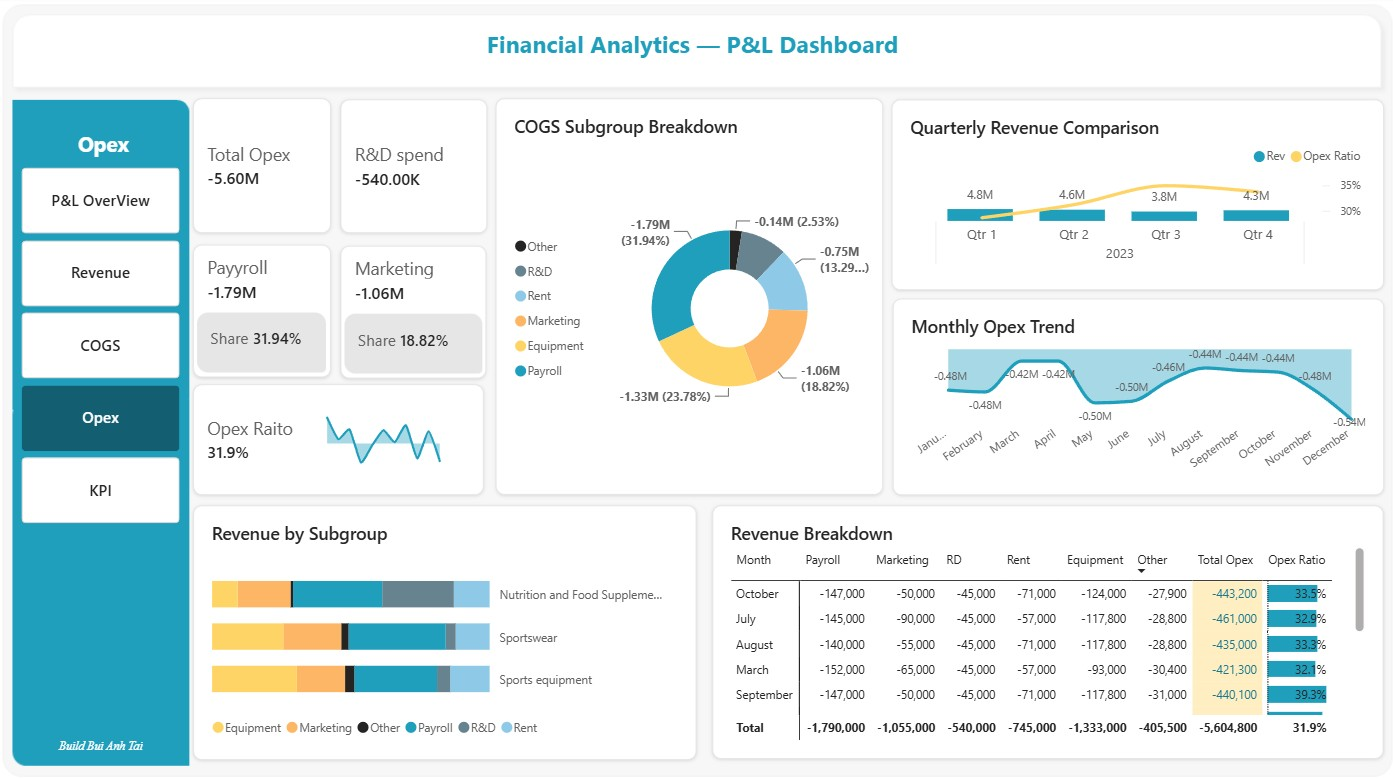

The page's visual inventory and layout, read from the dashboard file:
{"tool":"powerbi","page":{"name":"Opex","canvas":[1280,720],"ordinal":3},"visuals":[{"type":"lineChart","title":"Monthly Opex Trend","fields":{"Category":["Calendar.Month in text"],"Y":["_M.M_Opex"]},"box":[817.5,275,447.5,178.8],"z":0},{"type":"cardVisual","title":"GrossProfit","fields":{"Data":["_M.M_Opex"]},"box":[181.7,93.3,125.8,122.5],"z":1000},{"type":"cardVisual","title":"GrossProfit","fields":{"Data":["_M.M_Opex_Ratio"]},"box":[181.7,353.3,264.2,100.8],"z":2000},{"type":"cardVisual","title":"GrossProfit","fields":{"Data":["_M.M_RD"]},"box":[315.8,94.2,133.3,121.7],"z":3000},{"type":"cardVisual","title":"GrossProfit","fields":{"Data":["_M.M_Marketing"]},"box":[315.5,226.8,133,120.9],"z":4000},{"type":"cardVisual","title":"GrossProfit","fields":{"Data":["_M.M_Payroll"]},"box":[181.7,226.7,125.8,120.8],"z":5000},{"type":"textbox","box":[448.5,29.2,383,40.3],"z":6000},{"type":"textbox","box":[31,107,137,48],"z":7000},{"type":"lineChart","fields":{"Category":["Calendar.Month"],"Y":["_M MoM.M_Opex_Ratio_MoM"]},"box":[256.7,347.5,205.8,95.8],"z":8000},{"type":"hundredPercentStackedBarChart","title":"Revenue by Subgroup","fields":{"Category":["Business Line.Business Line"],"Series":["Subgroup.Subgroup"],"Y":["_M.M_Opex"]},"box":[181.4,463.6,458.6,231.8],"z":9000},{"type":"lineStackedColumnComboChart","title":"Quarterly Revenue Comparison","fields":{"Category":["Calendar.Date.Variation.Date Hierarchy.Year","Calendar.Date.Variation.Date Hierarchy.Quarter","Calendar.Date.Variation.Date Hierarchy.Month","Calendar.Date.Variation.Date Hierarchy.Day"],"Y":["_M.M_Revenue"],"Y2":["_M.M_Opex_Ratio"]},"box":[817.3,93.6,448.2,173.6],"z":10000},{"type":"pivotTable","title":"Revenue Breakdown","fields":{"Rows":["Calendar.Date.Variation.Date Hierarchy.Year","Calendar.Date.Variation.Date Hierarchy.Quarter","Calendar.Date.Variation.Date Hierarchy.Month","Calendar.Date.Variation.Date Hierarchy.Day"],"Values":["_M.M_Payroll","_M.M_Marketing","_M.M_RD","_M.M_Rent","_M.M_Equipment","_M.M_Other_Opex","_M.M_Opex","_M.M_Opex_Ratio"]},"box":[654,464,611,231],"z":11000},{"type":"donutChart","title":"COGS Subgroup Breakdown","fields":{"Category":["Subgroup.Subgroup"],"Y":["_M.M_Opex"]},"box":[456,93,353,361],"z":12000},{"type":"pageNavigator","box":[24.7,156,144,328.7],"z":13000},{"type":"textbox","box":[22,675,150,25],"z":14000}]}

Visuals, with their boxes in screenshot pixels (x1, y1, x2, y2), scaled from the page's 1280x720 canvas onto the 1393x778 screenshot:
"Monthly Opex Trend" lineChart: bbox(890, 297, 1377, 490)
"GrossProfit" cardVisual: bbox(198, 101, 335, 233)
"GrossProfit" cardVisual: bbox(198, 382, 485, 491)
"GrossProfit" cardVisual: bbox(344, 102, 489, 233)
"GrossProfit" cardVisual: bbox(343, 245, 488, 376)
"GrossProfit" cardVisual: bbox(198, 245, 335, 375)
textbox: bbox(488, 32, 905, 75)
textbox: bbox(34, 116, 183, 167)
lineChart - Calendar.Month x _M MoM.M_Opex_Ratio_MoM: bbox(279, 375, 503, 479)
"Revenue by Subgroup" hundredPercentStackedBarChart: bbox(197, 501, 696, 751)
"Quarterly Revenue Comparison" lineStackedColumnComboChart: bbox(889, 101, 1377, 289)
"Revenue Breakdown" pivotTable: bbox(712, 501, 1377, 751)
"COGS Subgroup Breakdown" donutChart: bbox(496, 100, 880, 491)
pageNavigator: bbox(27, 169, 184, 524)
textbox: bbox(24, 729, 187, 756)
